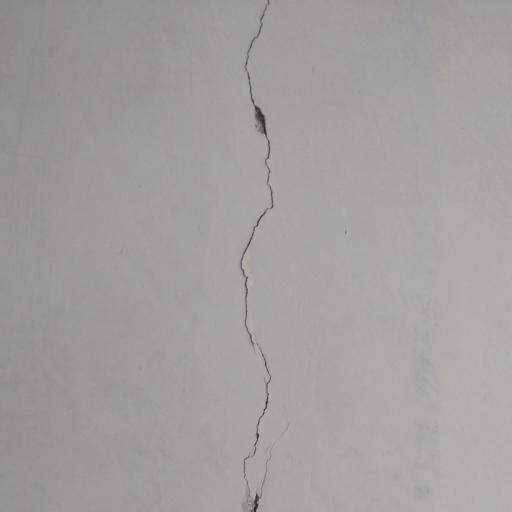major_crack: (219, 3, 336, 512)
